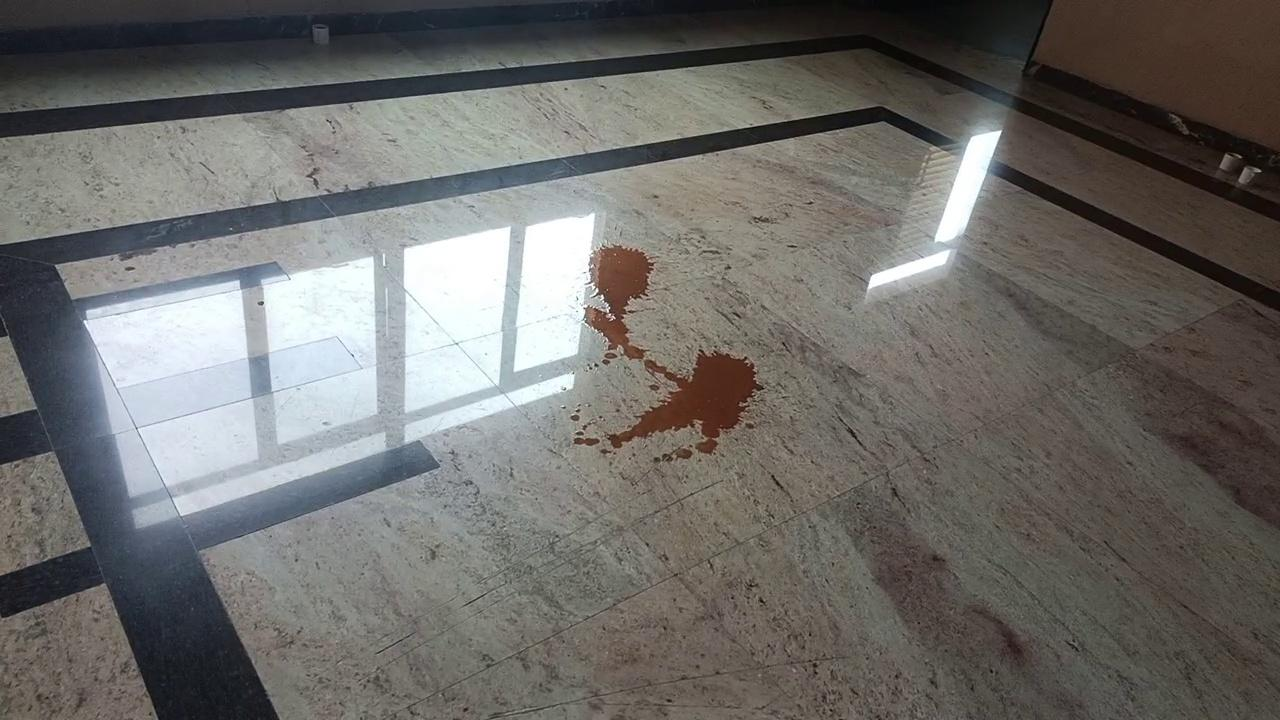dirty_floor: (575, 238, 760, 469)
